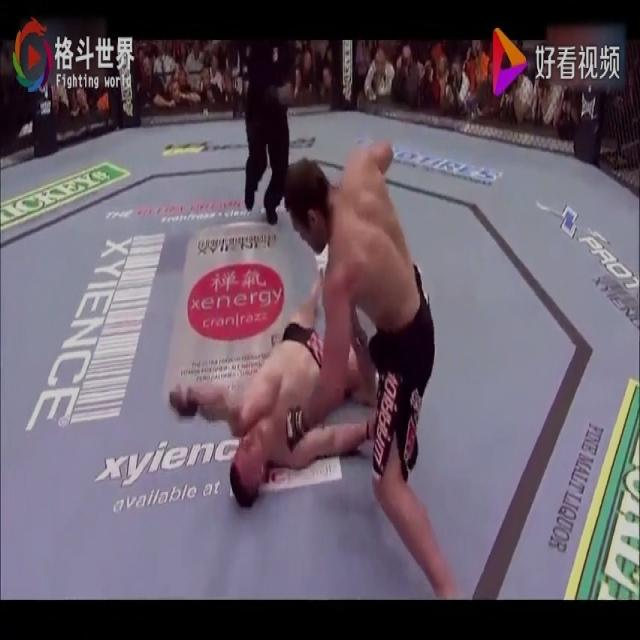fight: (161, 130, 461, 599)
non-fight: (230, 39, 300, 225)
